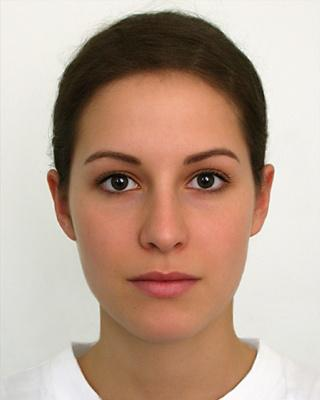face: (68, 70, 255, 342)
